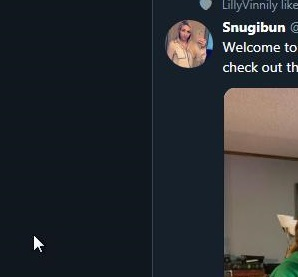cursor: (32, 234, 45, 253)
